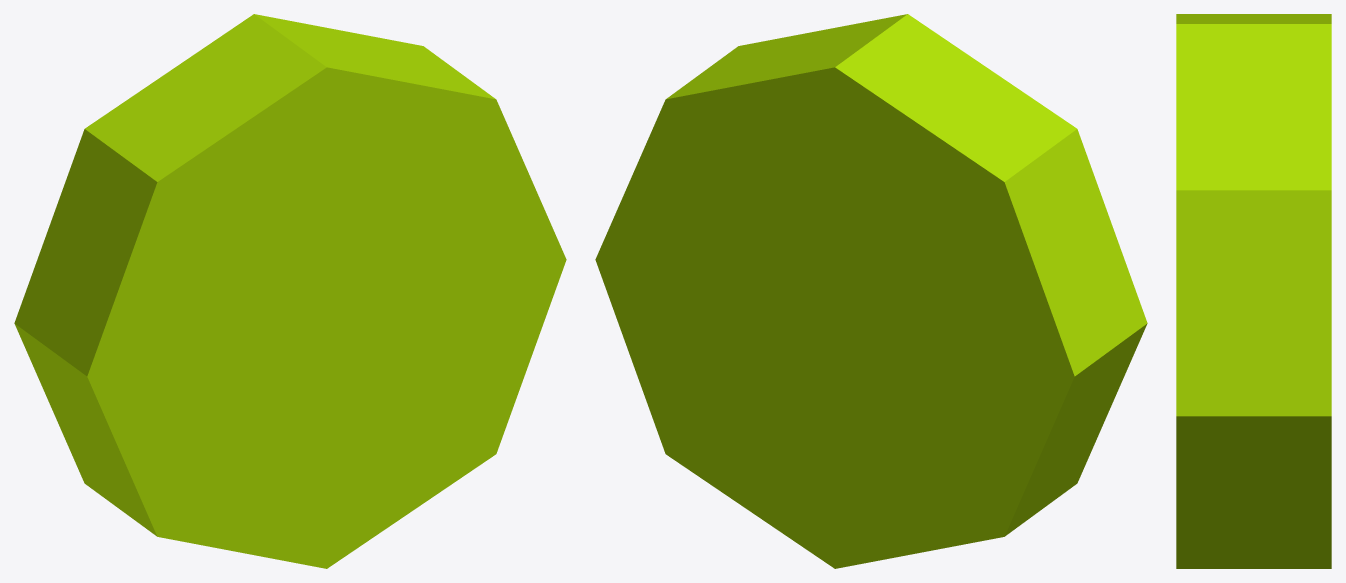
File: Boton05.fbx
3 renders of one model, left to right at view 1: azimuth 30°, elevation 25°; view 2: azimuth 150°, elevation 25°; view 3: azimuth 270°, elevation 25°, orthographic. The views are drawn at different scales.
Parts seen in each view (by area): view 1: Boton05; view 2: Boton05; view 3: Boton05.
Part boxes in pixels (x1,y1,x2,y2): Boton05: (14, 14, 566, 568); Boton05: (595, 14, 1147, 568); Boton05: (1176, 14, 1331, 568).
Size of the model in its own units: 10 by 10 by 2.63.
